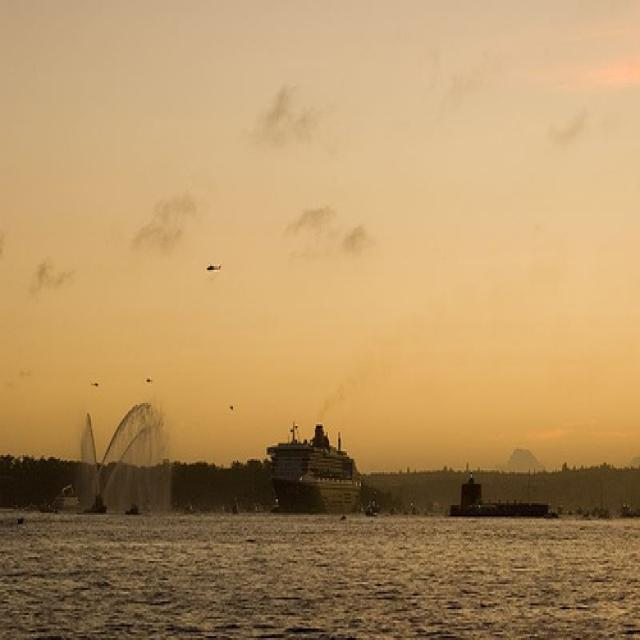Boat: (254, 422, 378, 528), (452, 458, 559, 539), (85, 449, 111, 530)
